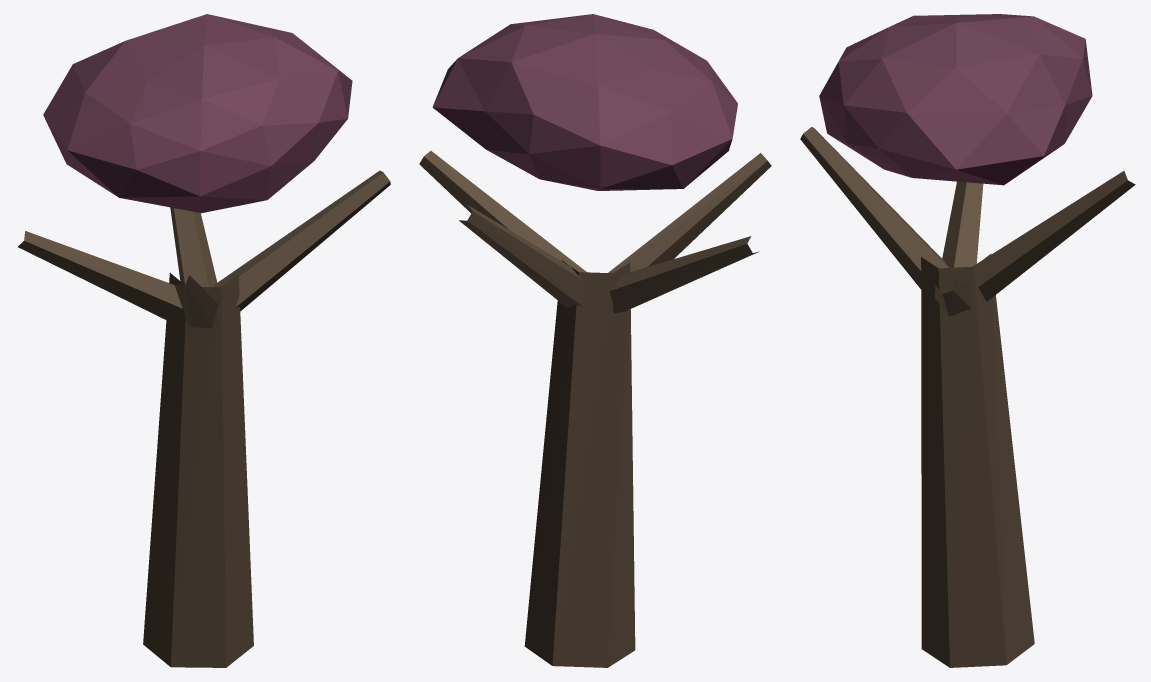
The model's file is 0919-Street-trees-and-bushes-ipePink.glb.
3 renders of one model, left to right at view 1: azimuth 30°, elevation 25°; view 2: azimuth 150°, elevation 25°; view 3: azimuth 270°, elevation 25°, orthographic. The views are drawn at different scales.
Parts seen in each view (by area): view 1: Street trees and bushes/ipePink; view 2: Street trees and bushes/ipePink; view 3: Street trees and bushes/ipePink.
Part boxes in pixels (x1,y1,x2,y2): Street trees and bushes/ipePink: (18, 14, 390, 667); Street trees and bushes/ipePink: (419, 14, 771, 667); Street trees and bushes/ipePink: (800, 14, 1135, 667).
Bounding box in the file's own units: 0.4134 × 0.6793 × 0.3324.
